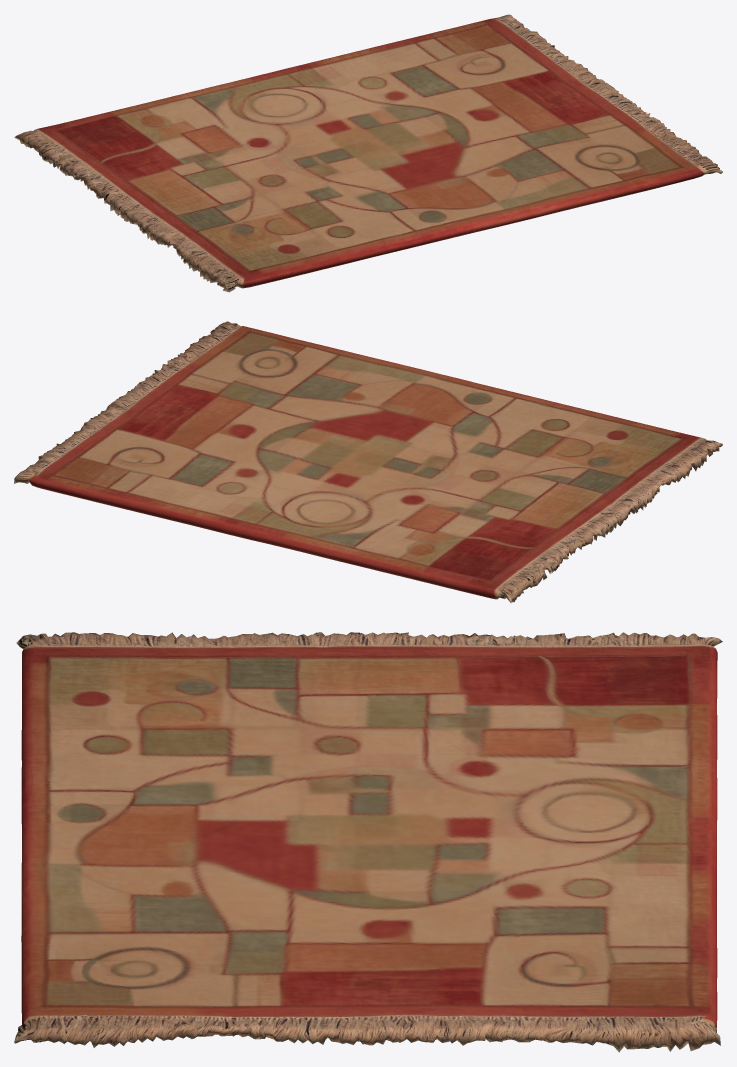
The model's file is Meshy_AI_Geometric_Harmony_Rug_0518215924_texture.fbx.
3 renders of one model, top to bottom at view 1: azimuth 30°, elevation 25°; view 2: azimuth 150°, elevation 25°; view 3: azimuth 270°, elevation 25°, orthographic. The views are drawn at different scales.
Parts seen in each view (by area): view 1: Mesh_0; view 2: Mesh_0; view 3: Mesh_0.
Boxes of the visible parts, bbox=[...] form: Mesh_0: bbox=[14, 14, 722, 292]; Mesh_0: bbox=[14, 321, 722, 602]; Mesh_0: bbox=[14, 632, 722, 1052].
Bounding box in the file's own units: 199 × 5.95 × 148.
1 material, 1 textured.
